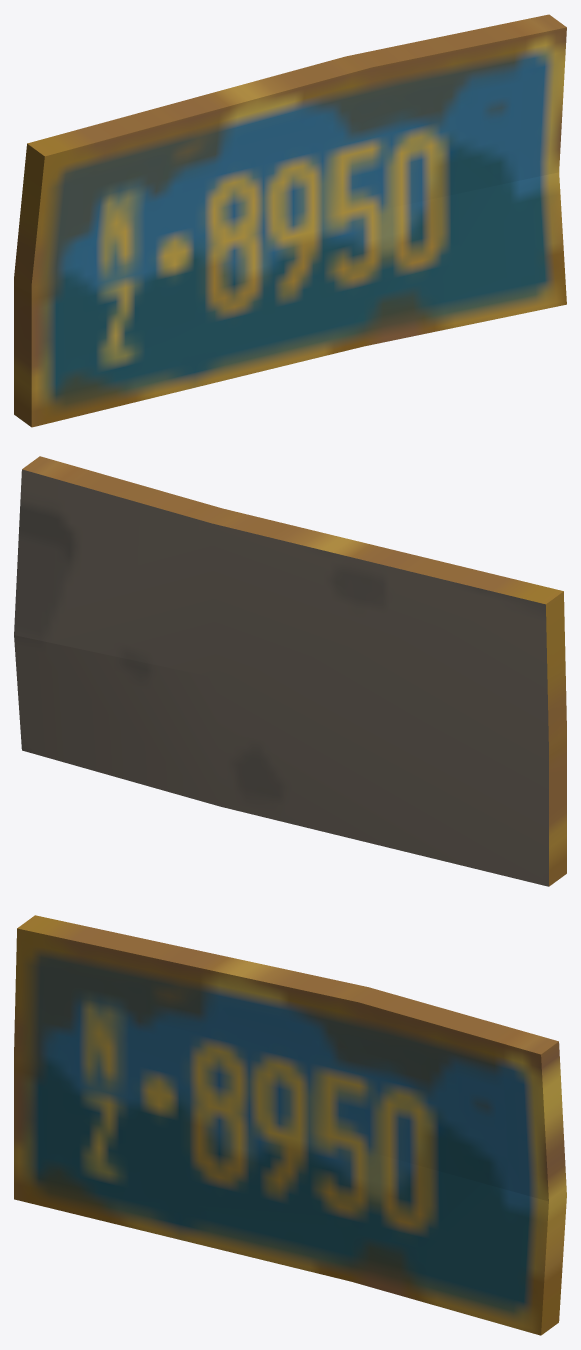
Rendered from SM_Prop_Sign_Numberplate_05.obj.
3 renders of one model, top to bottom at view 1: azimuth 30°, elevation 25°; view 2: azimuth 150°, elevation 25°; view 3: azimuth 330°, elevation 25°, orthographic.
Parts seen in each view (by area): view 1: SM_Prop_Sign_Numberplate_05_0; view 2: SM_Prop_Sign_Numberplate_05_0; view 3: SM_Prop_Sign_Numberplate_05_0.
Part boxes in pixels (box(x1,y1,x2,y2)): SM_Prop_Sign_Numberplate_05_0: box(14, 14, 566, 427); SM_Prop_Sign_Numberplate_05_0: box(14, 456, 566, 886); SM_Prop_Sign_Numberplate_05_0: box(14, 915, 566, 1335).
Bounding box in the file's own units: 0.6374 × 0.3201 × 0.0536.
Materials: 1 (1 with a texture image).
